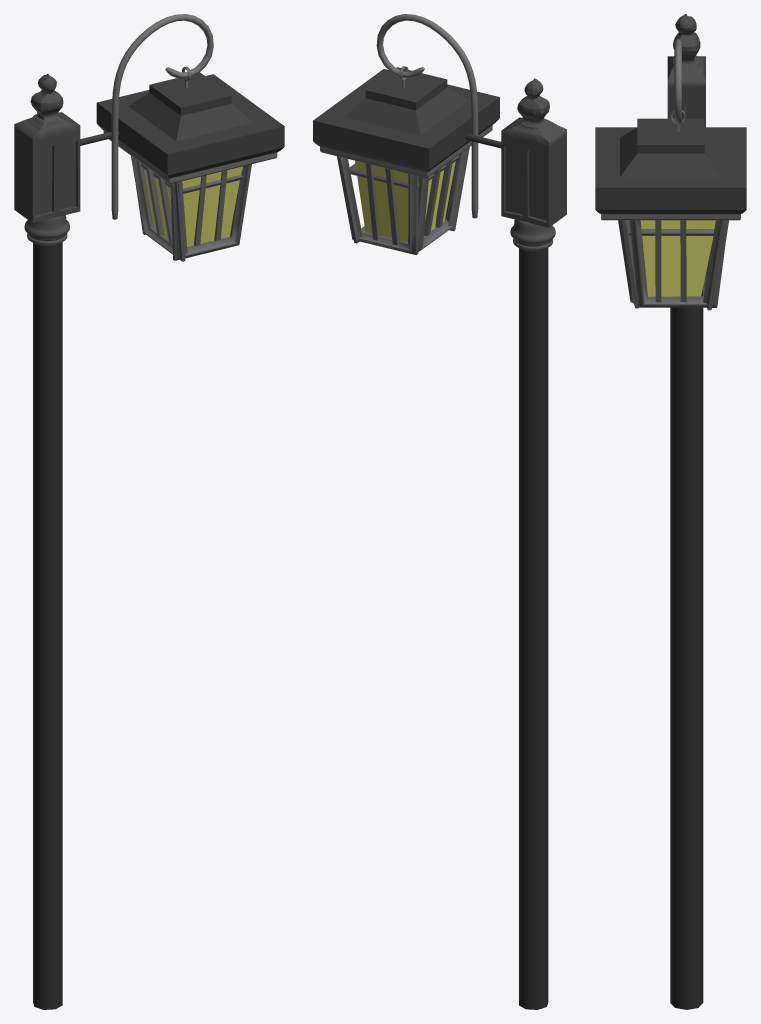
Rendered from Farola.fbx.
3 renders of one model, left to right at view 1: azimuth 30°, elevation 25°; view 2: azimuth 150°, elevation 25°; view 3: azimuth 270°, elevation 25°, orthographic. The views are drawn at different scales.
Parts seen in each view (by area): view 1: sweep13, sweep4, pCube11, pPlane1, sweep7, polySurface1, polySurface4, pCylinder1, sweep2, sweep3; view 2: sweep13, sweep4, pCube11, pPlane1, sweep7, polySurface3, polySurface4, pCylinder1, sweep2, polySurface2, polySurface1, sweep3 (+2 smaller); view 3: sweep13, sweep4, pPlane1, pCube11, polySurface2, polySurface3, sweep2, polySurface1, sweep3, sweep7, Palo3, Palo2 (+1 smaller).
Boxes of the visible parts, <box> form: sweep13: <box>33,242,62,1009</box>; sweep4: <box>96,72,284,175</box>; pCube11: <box>14,73,80,222</box>; pPlane1: <box>144,166,243,246</box>; sweep7: <box>111,14,213,219</box>; polySurface1: <box>170,164,251,260</box>; polySurface4: <box>131,156,187,261</box>; pCylinder1: <box>24,215,69,245</box>; sweep2: <box>103,130,277,183</box>; sweep3: <box>97,124,283,178</box>; sweep13: <box>519,248,548,1009</box>; sweep4: <box>313,67,499,169</box>; pCube11: <box>501,78,566,227</box>; pPlane1: <box>355,160,455,242</box>; sweep7: <box>376,14,478,218</box>; polySurface3: <box>337,156,418,254</box>; polySurface4: <box>418,147,469,251</box>; pCylinder1: <box>510,219,555,251</box>; sweep2: <box>320,125,492,177</box>; polySurface2: <box>337,156,365,243</box>; polySurface1: <box>444,148,469,231</box>; sweep3: <box>313,118,499,172</box>; sweep13: <box>670,289,703,1009</box>; sweep4: <box>595,118,746,209</box>; pPlane1: <box>640,220,715,296</box>; pCube11: <box>667,14,705,127</box>; polySurface2: <box>629,220,728,307</box>; polySurface3: <box>703,220,728,310</box>; sweep2: <box>601,214,740,220</box>; polySurface1: <box>618,220,639,308</box>; sweep3: <box>596,210,745,214</box>; sweep7: <box>674,38,681,124</box>; Palo3: <box>655,220,661,302</box>; Palo2: <box>680,220,686,302</box>.
Size of the model in its own units: 22.67 by 95.52 by 12.79.
